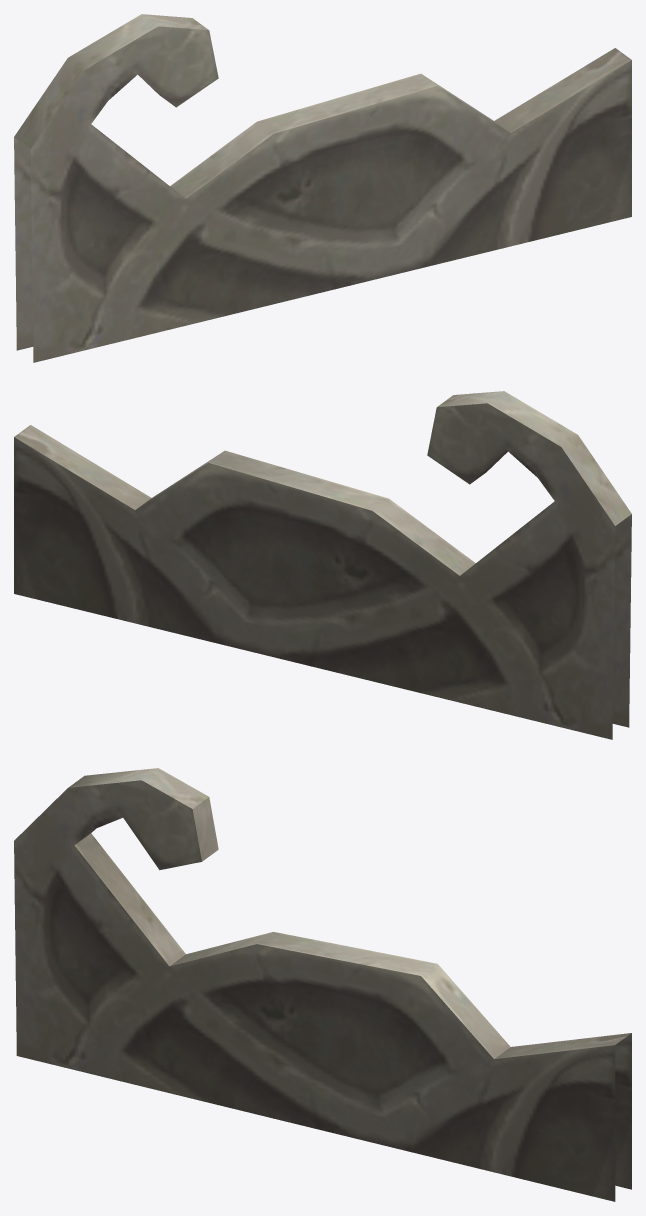
Rendered from common_yewai_jinglinglangan01.FBX.
3 renders of one model, top to bottom at view 1: azimuth 30°, elevation 25°; view 2: azimuth 150°, elevation 25°; view 3: azimuth 330°, elevation 25°, orthographic.
Visible parts, largest first — view 1: common_yewai_jinglinglangan01; view 2: common_yewai_jinglinglangan01; view 3: common_yewai_jinglinglangan01.
Boxes of the visible parts, box(x1,y1,x2,y2) form: common_yewai_jinglinglangan01: box(14, 14, 631, 362); common_yewai_jinglinglangan01: box(14, 391, 631, 739); common_yewai_jinglinglangan01: box(14, 768, 631, 1201).
Size of the model in its own units: 3.13 by 0.1506 by 1.52.
